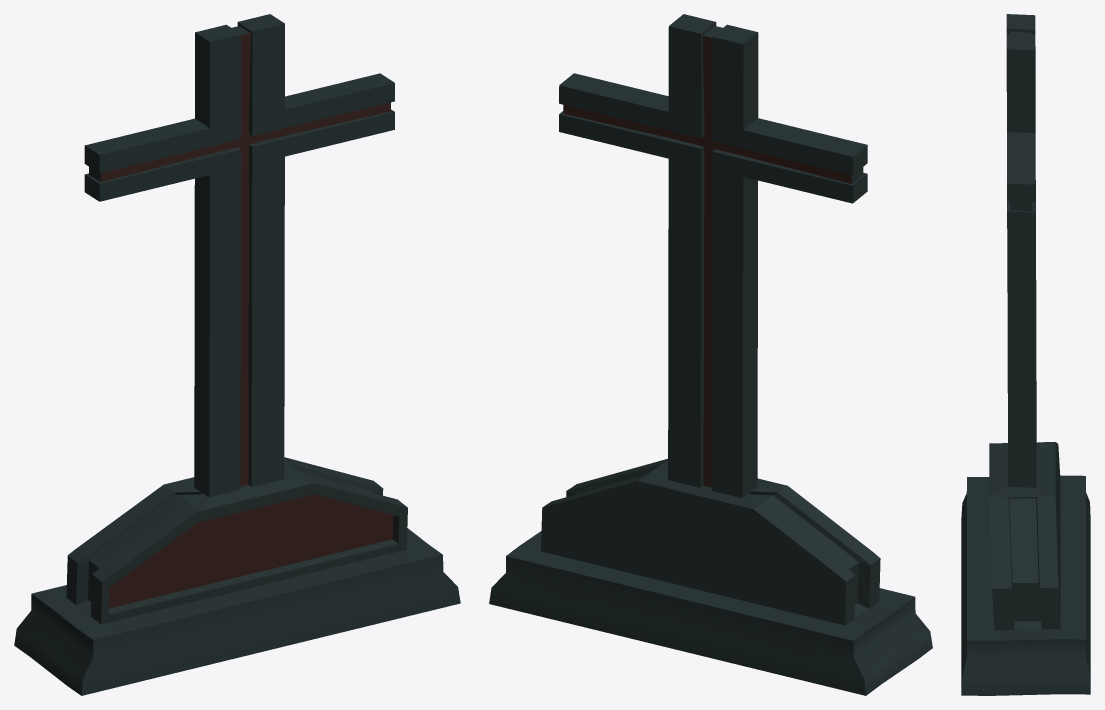
The picture shows the model from 3 angles, left to right: view 1: azimuth 30°, elevation 25°; view 2: azimuth 150°, elevation 25°; view 3: azimuth 270°, elevation 25°; orthographic projection. The views are drawn at different scales.
Visible parts, largest first — view 1: pCube4 Grave2; view 2: pCube4 Grave2; view 3: pCube4 Grave2.
Part boxes in pixels (left/top/right/bottom): pCube4 Grave2: left=14, top=14, right=460, bottom=695; pCube4 Grave2: left=489, top=14, right=932, bottom=695; pCube4 Grave2: left=961, top=14, right=1090, bottom=695.
Size of the model in its own units: 1.45 by 2.19 by 0.4457.
